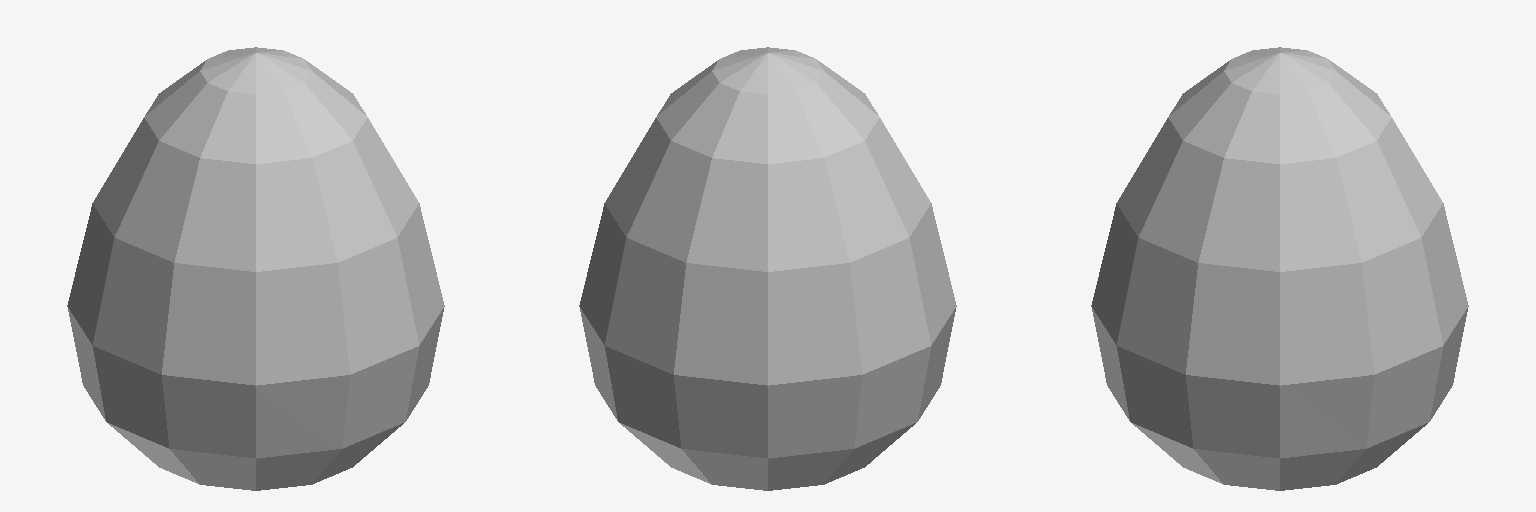
The picture shows the model from 3 angles: view 1: azimuth 30°, elevation 25°; view 2: azimuth 150°, elevation 25°; view 3: azimuth 270°, elevation 25°; orthographic projection.
Visible parts, largest first — view 1: rdmobj00; view 2: rdmobj00; view 3: rdmobj00.
Part boxes in pixels (left/top/right/bottom): rdmobj00: left=67, top=47, right=444, bottom=490; rdmobj00: left=579, top=47, right=956, bottom=490; rdmobj00: left=1091, top=47, right=1468, bottom=490.
Bounding box in the file's own units: 0.5906 × 0.7016 × 0.5906.